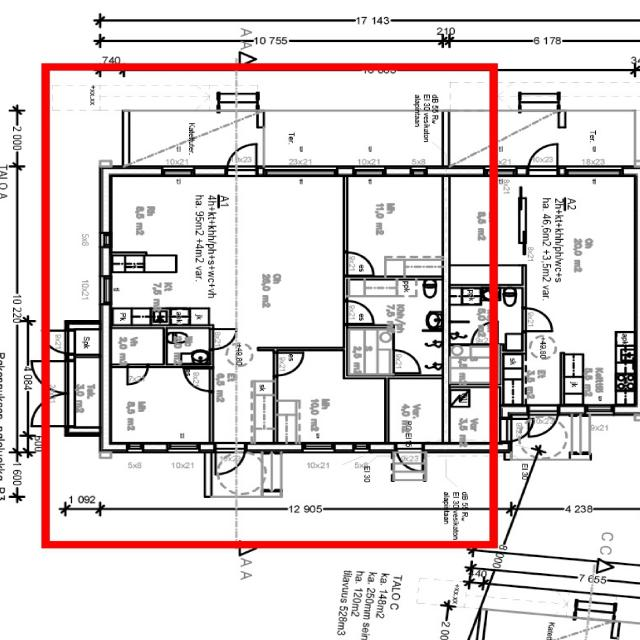door: (27, 393, 76, 426), (27, 361, 76, 393), (227, 139, 257, 177), (215, 441, 245, 479), (396, 442, 423, 476), (38, 330, 76, 354), (342, 300, 373, 324), (273, 352, 303, 375), (343, 252, 373, 275), (392, 350, 421, 373), (184, 369, 214, 391), (209, 329, 236, 349), (127, 364, 147, 386)
